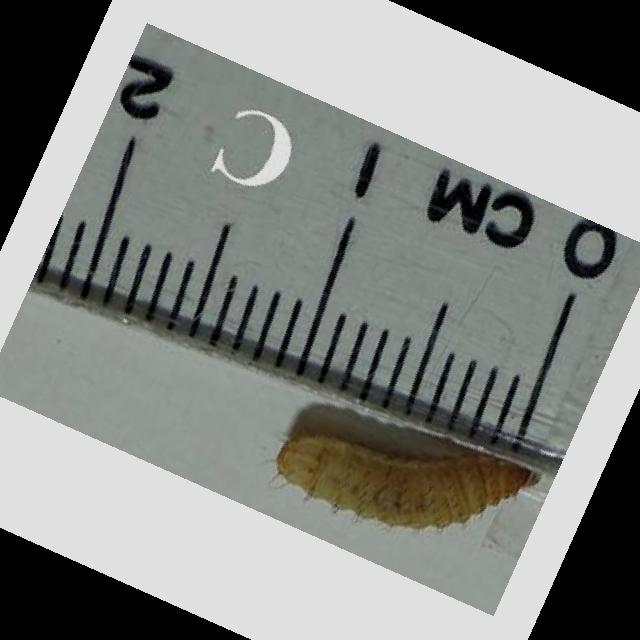Maggot: (276, 434, 541, 522)
